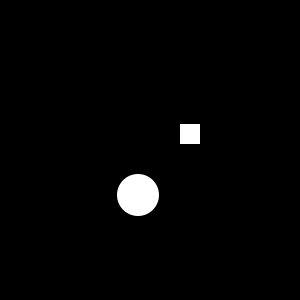circle: (180, 124, 200, 144)
rectangle: (117, 174, 159, 216)
